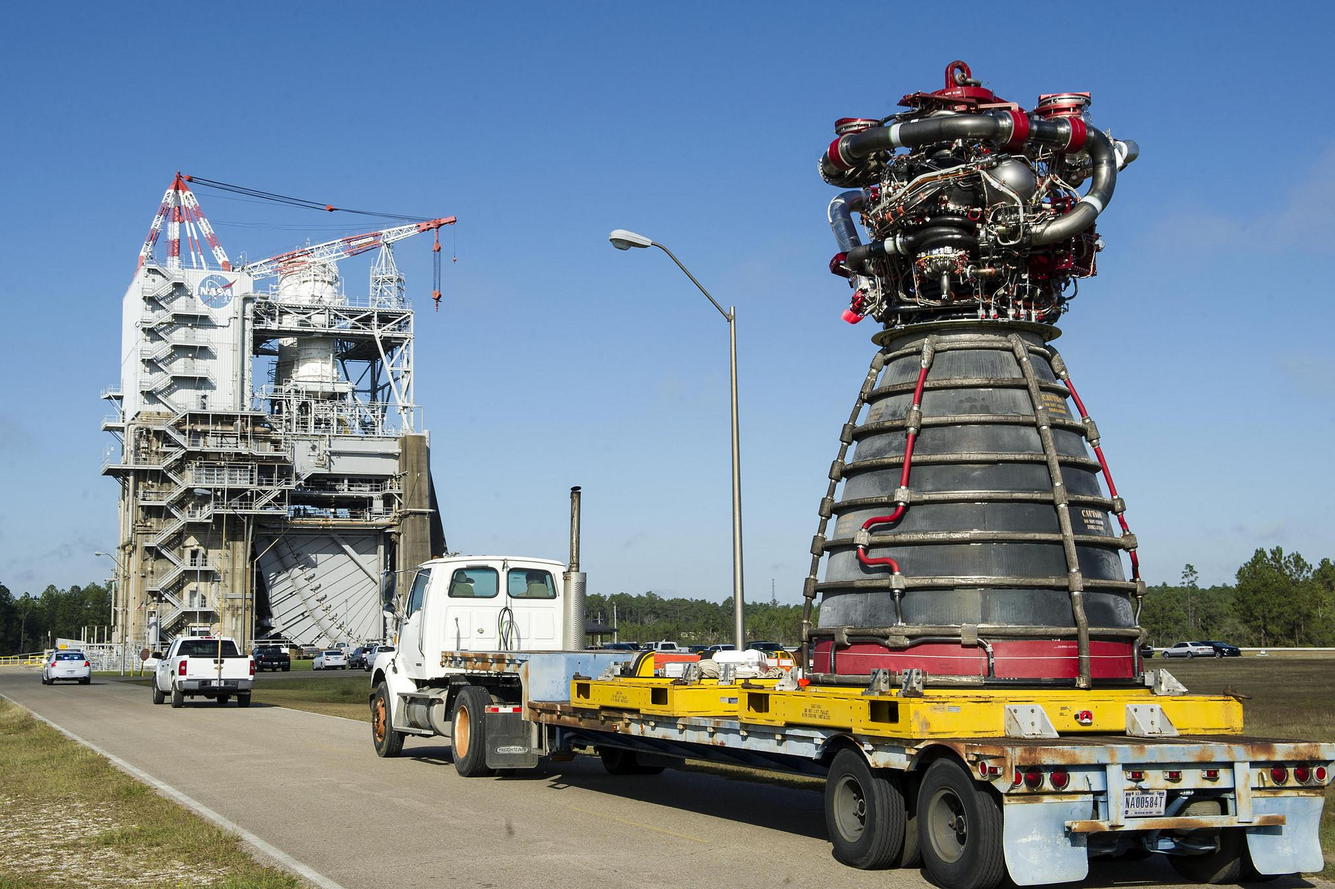thruster: (795, 329, 1154, 692)
